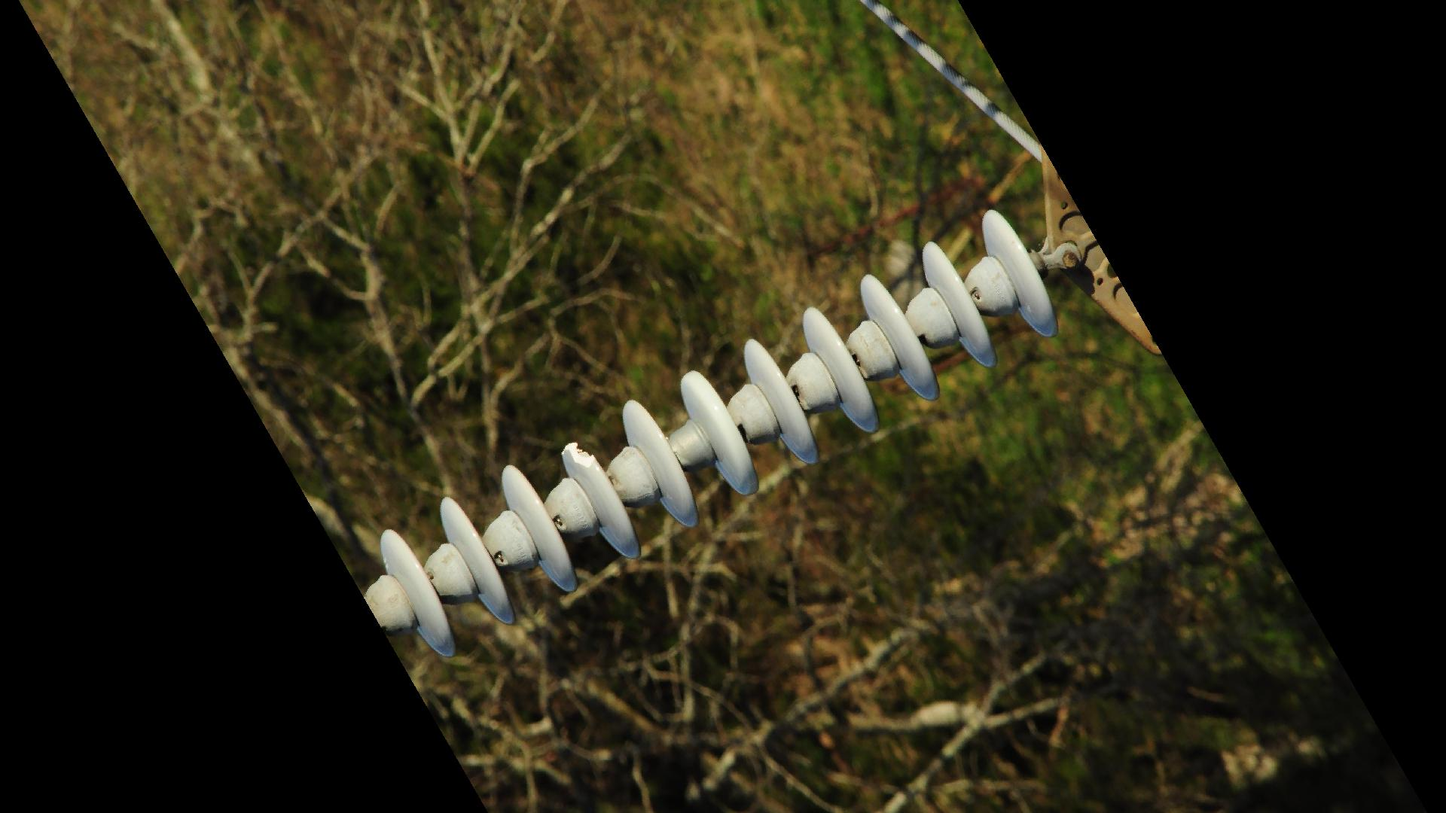insulator: (371, 204, 1068, 661)
insulator_breakage: (552, 434, 608, 477)
